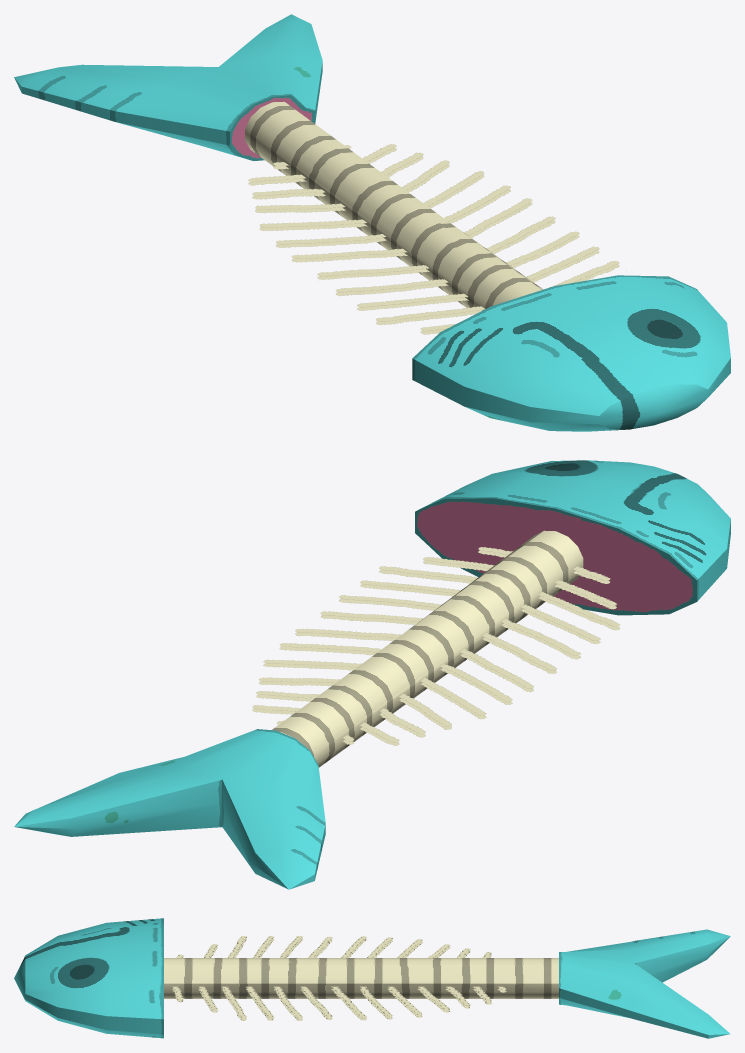
Rendered from RS_FishBones.fbx.
3 views of the same model, one above another, from view 1: azimuth 30°, elevation 25°; view 2: azimuth 150°, elevation 25°; view 3: azimuth 270°, elevation 25° (orthographic). The views are drawn at different scales.
Visible parts, largest first — view 1: Sphere, Cube; view 2: Sphere, Cube; view 3: Sphere, Cube.
Boxes of the visible parts, <box> form: Sphere: <box>14,14,730,431</box>; Cube: <box>248,144,619,334</box>; Sphere: <box>14,460,730,889</box>; Cube: <box>252,547,619,745</box>; Sphere: <box>14,918,730,1038</box>; Cube: <box>172,936,506,1020</box>.
Size of the model in its own units: 33.86 by 10.79 by 103.
2 materials, 2 textured.
